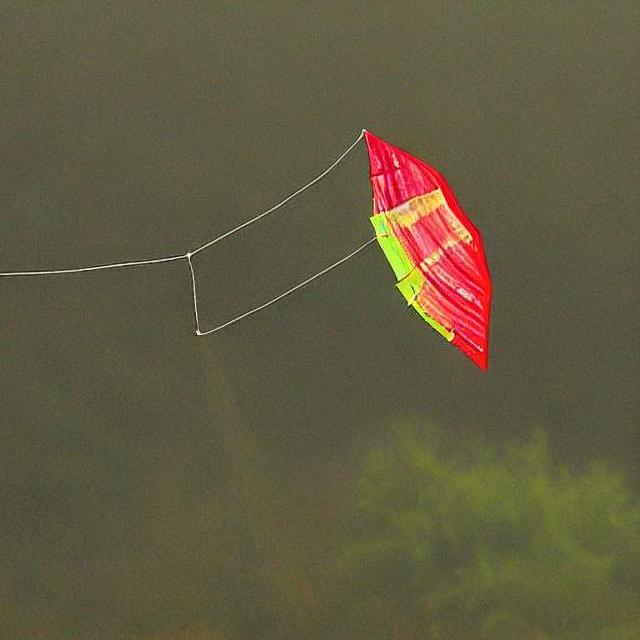floating object: (364, 128, 496, 371)
